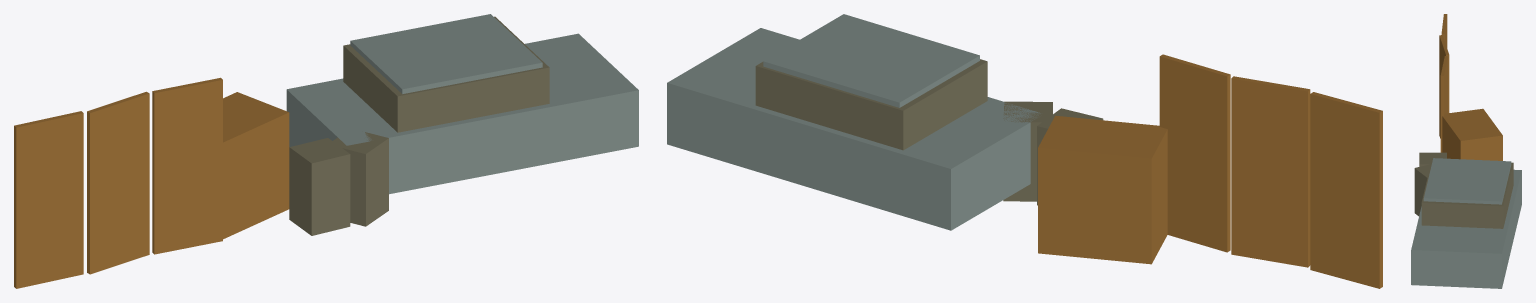
File: SM_BarricadaCivil_v4_Mixta_e0_Sano_LOD1.fbx
The picture shows the model from 3 angles, left to right: view 1: azimuth 30°, elevation 25°; view 2: azimuth 150°, elevation 25°; view 3: azimuth 270°, elevation 25°; orthographic projection. The views are drawn at different scales.
Parts seen in each view (by area): view 1: SM_barricada_civil_v16_LOD1; view 2: SM_barricada_civil_v16_LOD1; view 3: SM_barricada_civil_v16_LOD1.
Part boxes in pixels (x1=…): SM_barricada_civil_v16_LOD1: x1=14, y1=14, x2=638, y2=288; SM_barricada_civil_v16_LOD1: x1=667, y1=14, x2=1382, y2=288; SM_barricada_civil_v16_LOD1: x1=1411, y1=14, x2=1521, y2=288.
Bounding box in the file's own units: 7.9 × 2 × 2.
